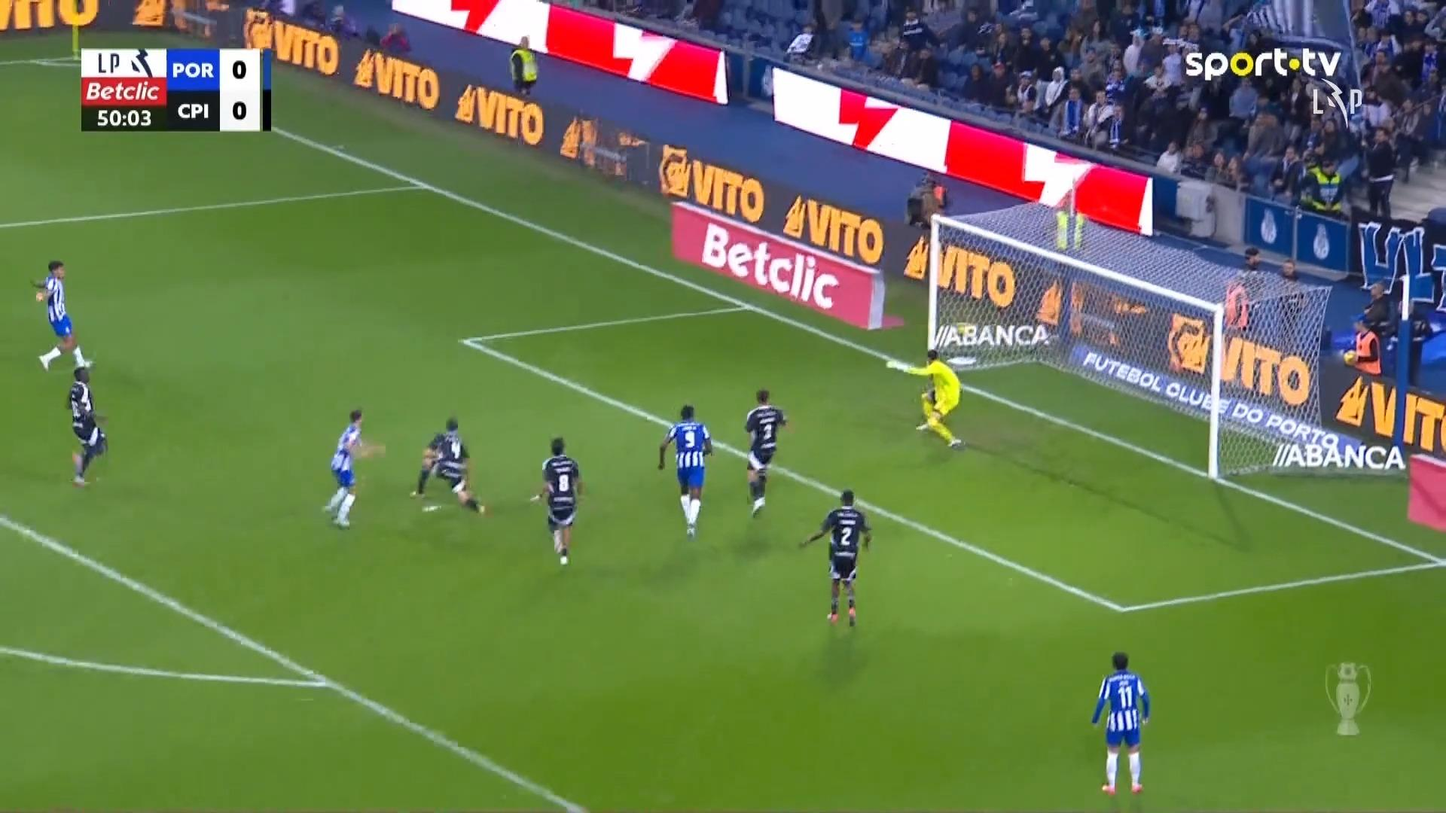ball: (1342, 349, 1356, 365)
goalkeeper: (885, 347, 966, 450)
player: (798, 488, 872, 626), (1090, 650, 1151, 794), (657, 403, 713, 539), (322, 408, 385, 528), (409, 416, 485, 514), (32, 260, 96, 372), (530, 435, 584, 565), (743, 388, 788, 518), (66, 364, 108, 486)
